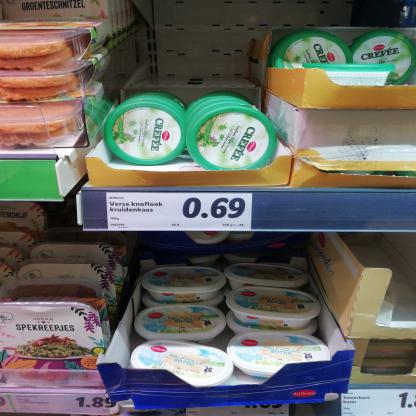prtg: (107, 194, 253, 232), (10, 394, 121, 415), (342, 390, 415, 415), (187, 404, 290, 415)
